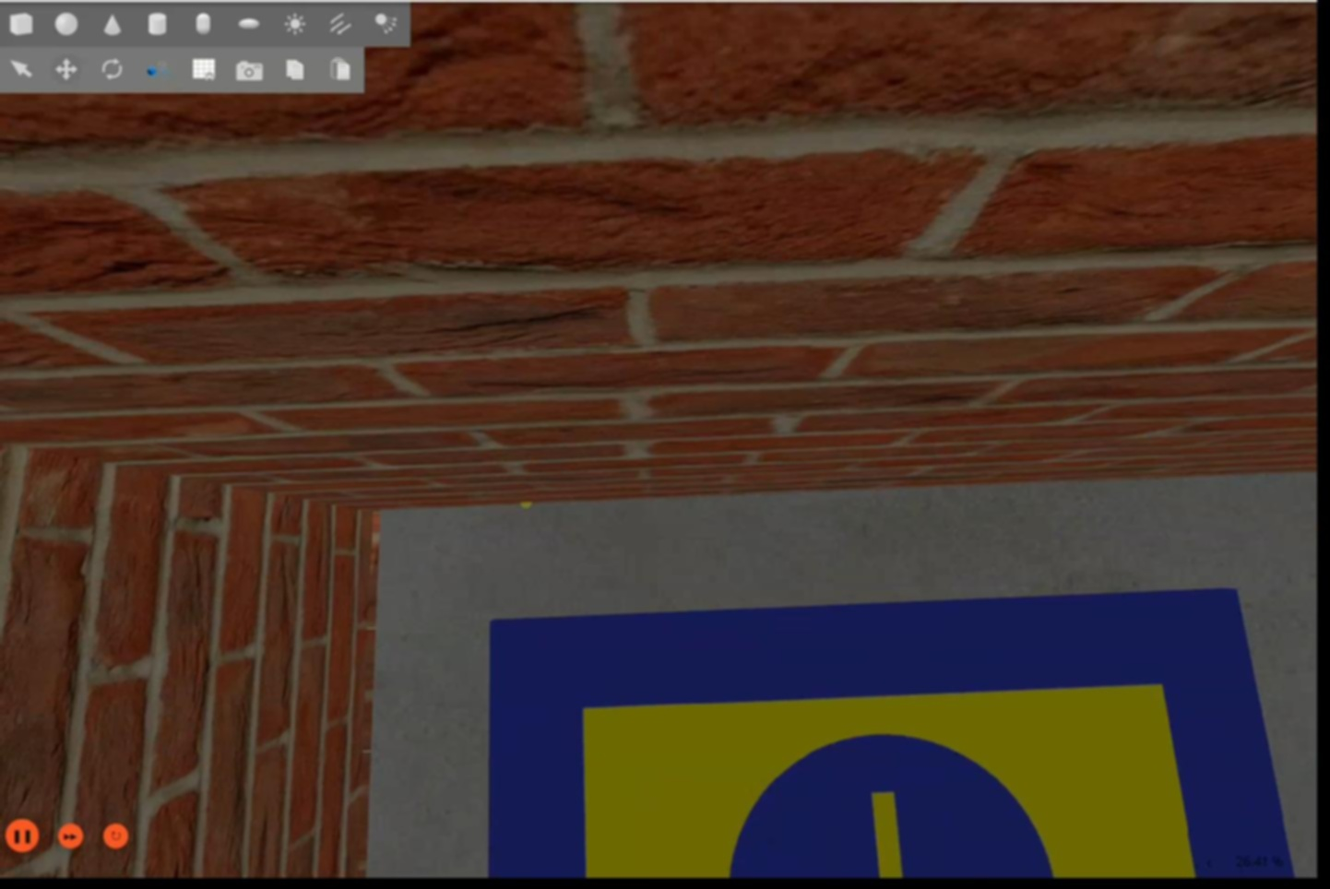large_base: (490, 589, 1296, 879)
